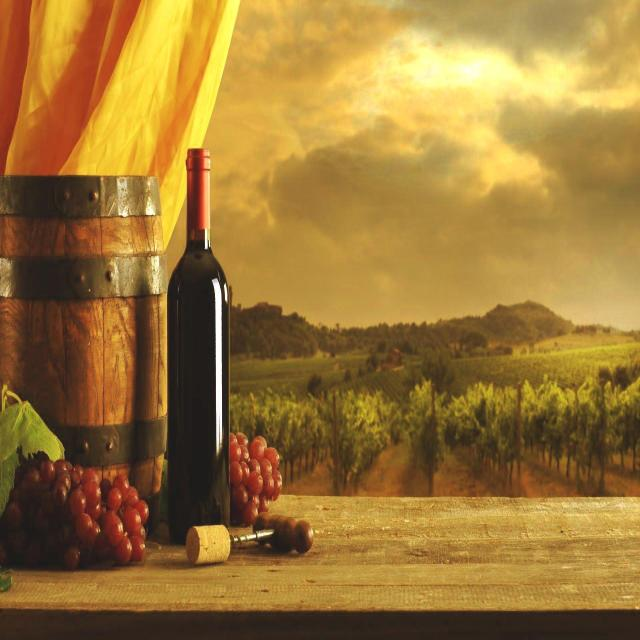cork: (185, 517, 235, 572)
